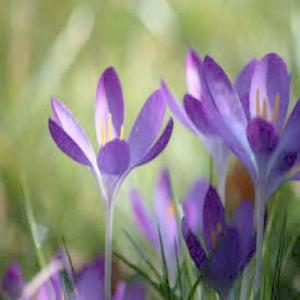Saffron: (48, 66, 176, 214), (166, 44, 275, 173), (202, 52, 300, 192), (182, 174, 260, 298)
